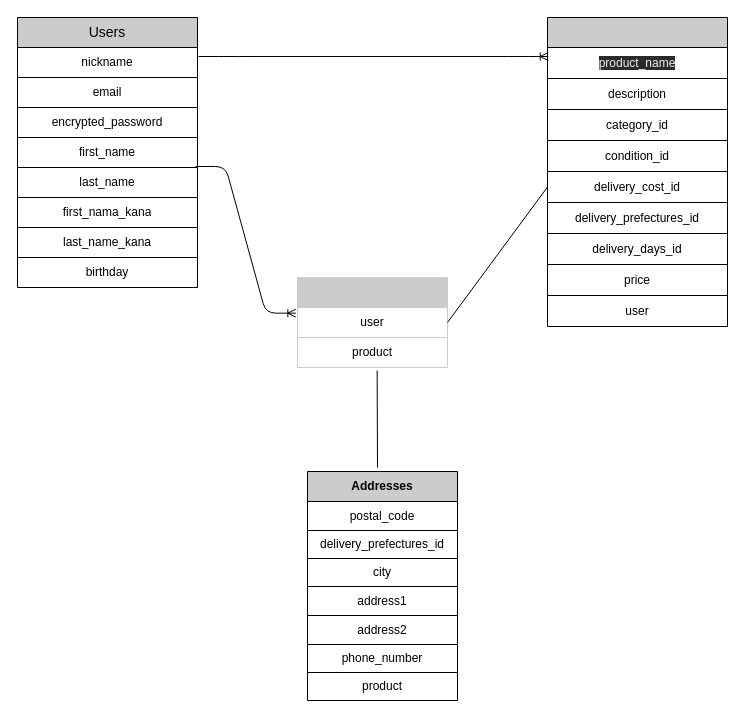
Some shapes in this 745 by 718 pixel diagram are drawn without their labels. Here are the shapes that lost their labels. From the top down, the box of each, then its label:
(546, 16, 728, 326): Products
(296, 276, 448, 368): Orders
